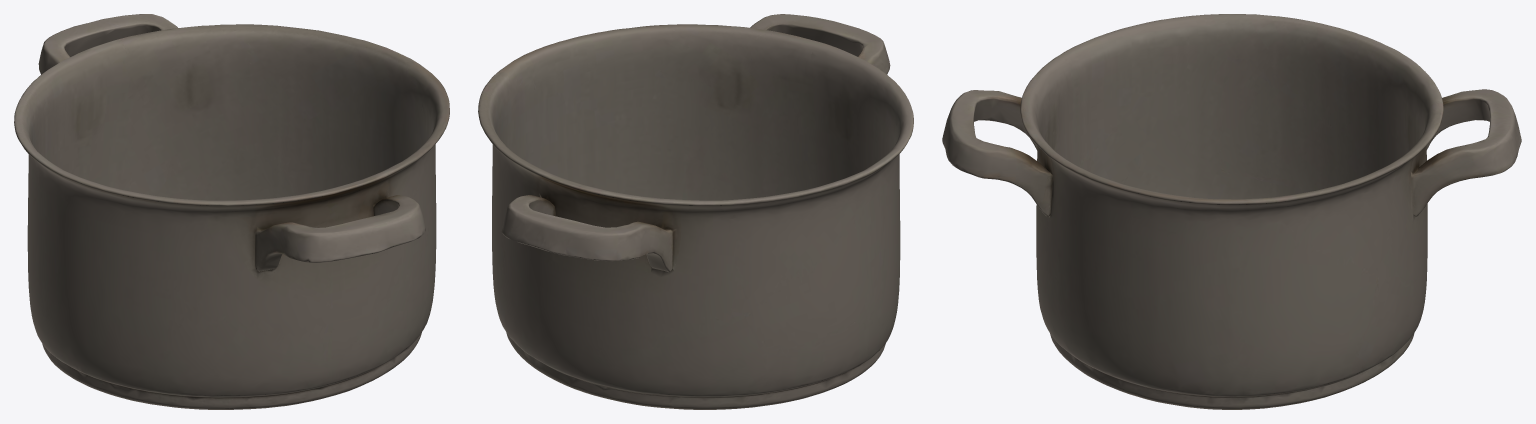
The model's file is pot.glb.
The picture shows the model from 3 angles, left to right: view 1: azimuth 30°, elevation 25°; view 2: azimuth 150°, elevation 25°; view 3: azimuth 270°, elevation 25°; orthographic projection.
Visible parts, largest first — view 1: tripo_node_f8369f03-7874-4a7a-b1fa-39fe191a3e79; view 2: tripo_node_f8369f03-7874-4a7a-b1fa-39fe191a3e79; view 3: tripo_node_f8369f03-7874-4a7a-b1fa-39fe191a3e79.
Part boxes in pixels (x1,y1,x2,y2): tripo_node_f8369f03-7874-4a7a-b1fa-39fe191a3e79: (14,14,449,409); tripo_node_f8369f03-7874-4a7a-b1fa-39fe191a3e79: (478,14,913,409); tripo_node_f8369f03-7874-4a7a-b1fa-39fe191a3e79: (942,14,1521,409).
Size of the model in its own units: 0.7701 by 0.4265 by 1.
1 material, 1 textured.
